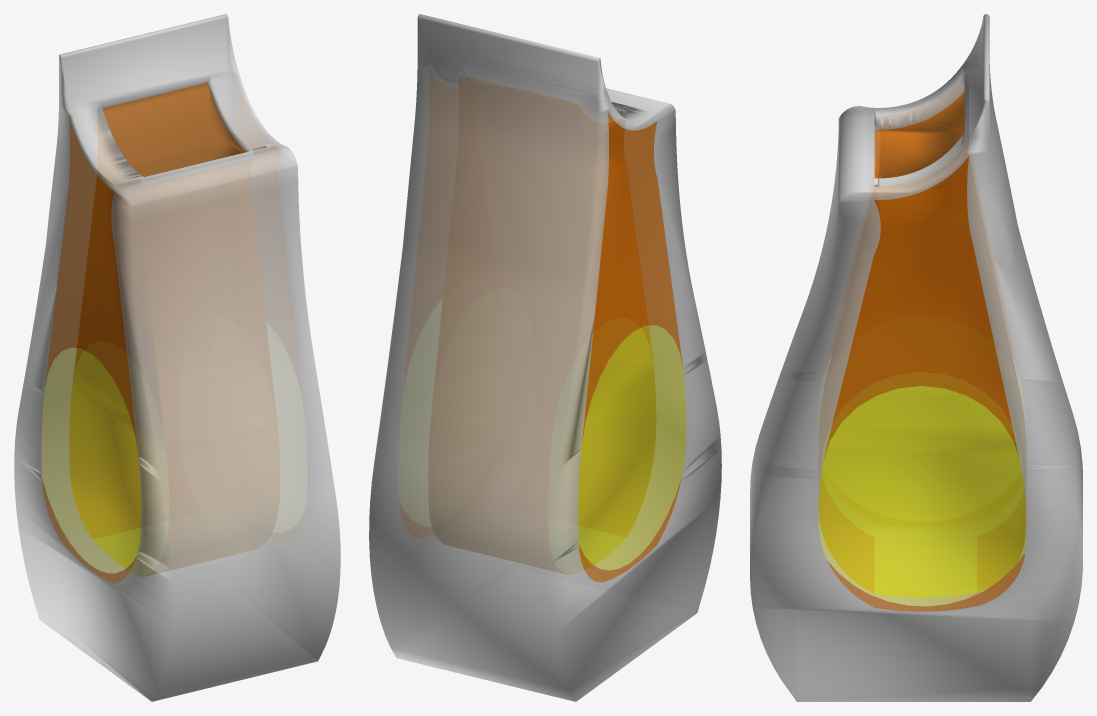
The picture shows the model from 3 angles, left to right: view 1: azimuth 30°, elevation 25°; view 2: azimuth 150°, elevation 25°; view 3: azimuth 270°, elevation 25°; orthographic projection. The views are drawn at different scales.
Visible parts, largest first — view 1: Mesh1_Group1_Model.003; view 2: Mesh1_Group1_Model.003; view 3: Mesh1_Group1_Model.003.
Part boxes in pixels (x1,y1,x2,y2): Mesh1_Group1_Model.003: (14, 14, 340, 701); Mesh1_Group1_Model.003: (369, 14, 721, 701); Mesh1_Group1_Model.003: (750, 14, 1082, 701).
Size of the model in its own units: 0.3 by 1 by 0.5.
